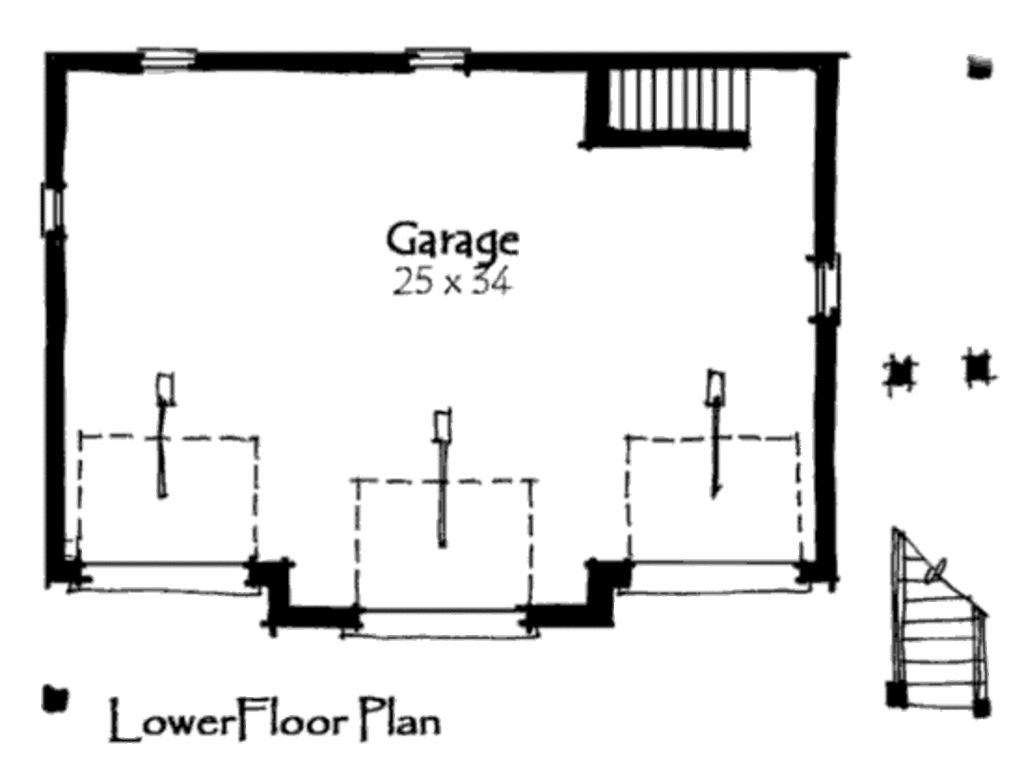stairs: (892, 529, 1010, 736), (578, 56, 782, 163)
window: (401, 38, 469, 73), (39, 177, 72, 244), (135, 44, 200, 76), (815, 254, 847, 316)
